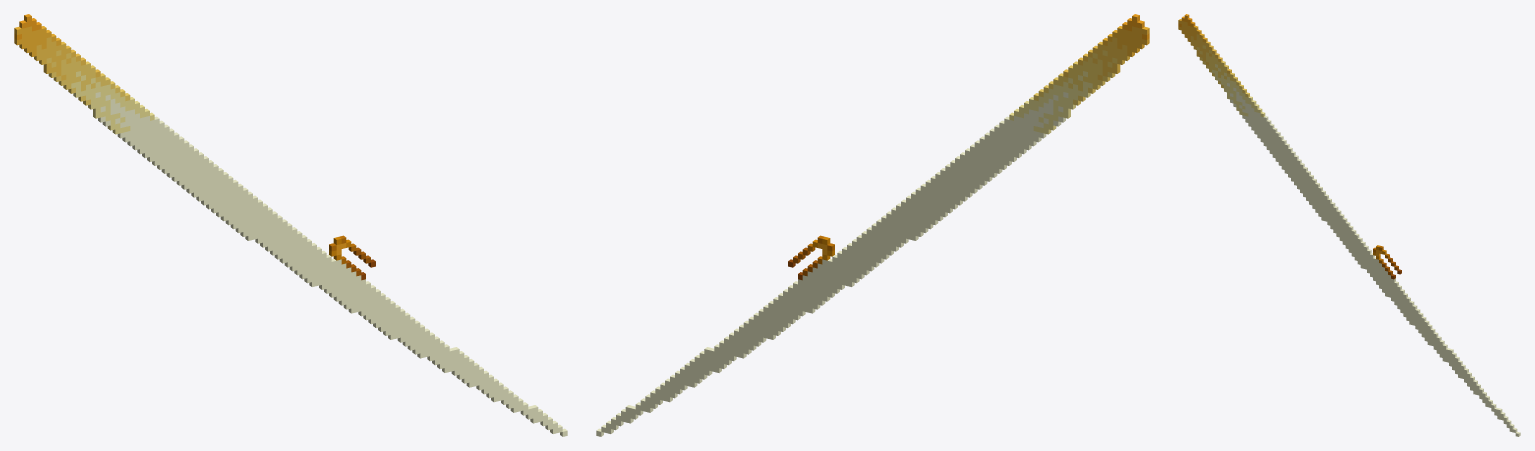
The model's file is Fight_725_2_04_fx.obj.
The picture shows the model from 3 angles, left to right: view 1: azimuth 30°, elevation 25°; view 2: azimuth 150°, elevation 25°; view 3: azimuth 330°, elevation 25°; orthographic projection. The views are drawn at different scales.
Size of the model in its own units: 11.2 by 10.7 by 0.1.
